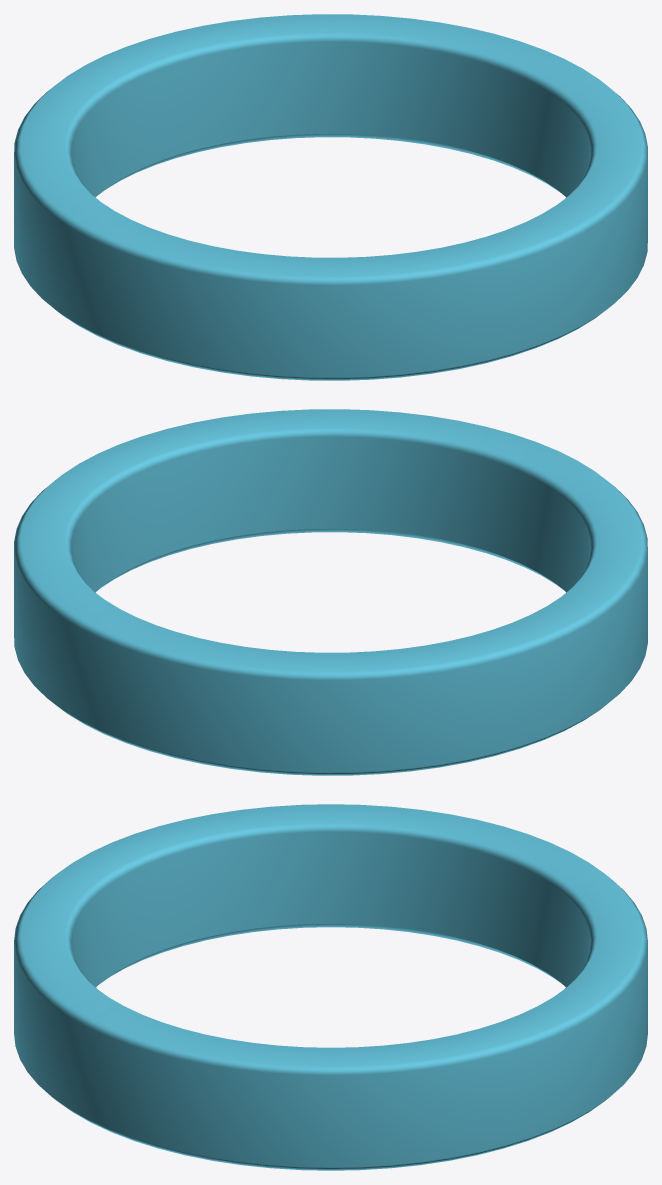
The picture shows the model from 3 angles, top to bottom: view 1: azimuth 30°, elevation 25°; view 2: azimuth 150°, elevation 25°; view 3: azimuth 270°, elevation 25°; orthographic projection.
Visible parts, largest first — view 1: seal_body; view 2: seal_body; view 3: seal_body.
Part boxes in pixels (x1,y1,x2,y2): seal_body: (14,14,647,380); seal_body: (14,409,647,775); seal_body: (14,804,647,1170).
Size of the model in its own units: 0.055 by 0.01 by 0.055.
